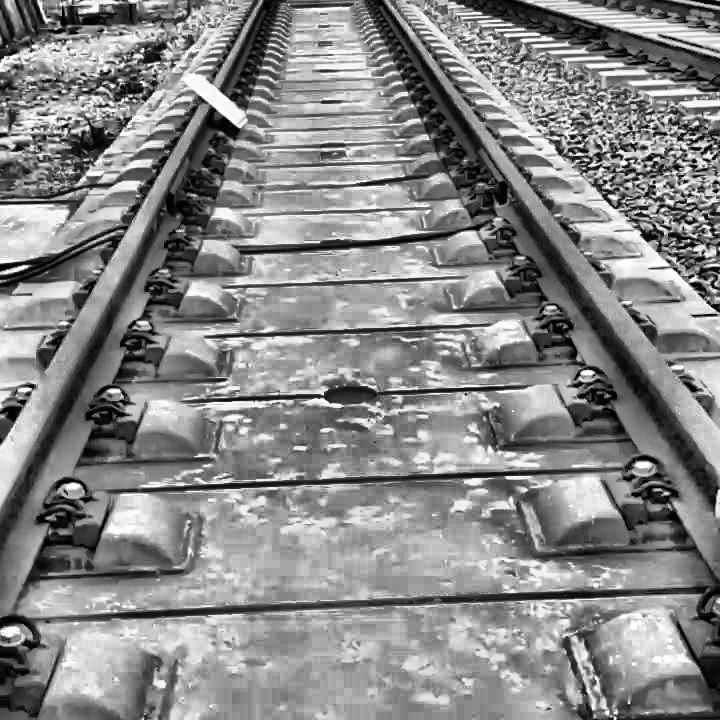Trash: (173, 57, 252, 132)
